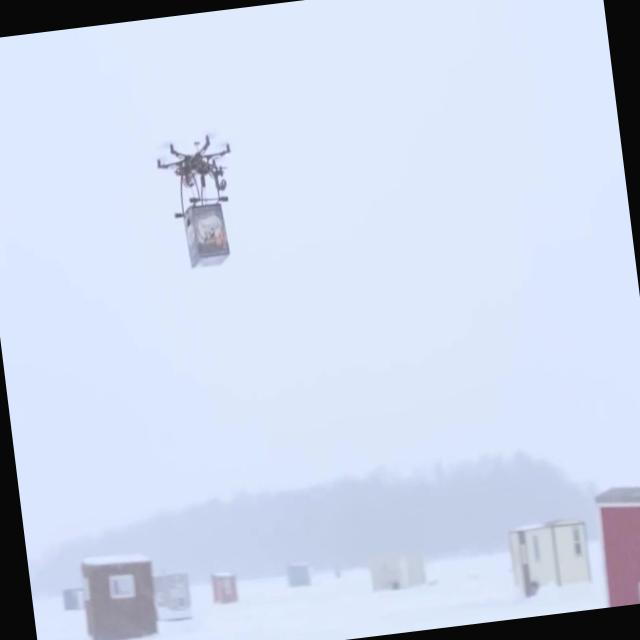drone: (150, 125, 242, 213)
